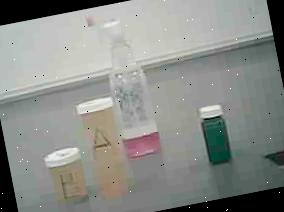Bottle A: (70, 90, 137, 206)
Bottle B: (39, 138, 94, 212)
Bottle C: (193, 97, 238, 166)
hazard: (87, 1, 173, 172)
